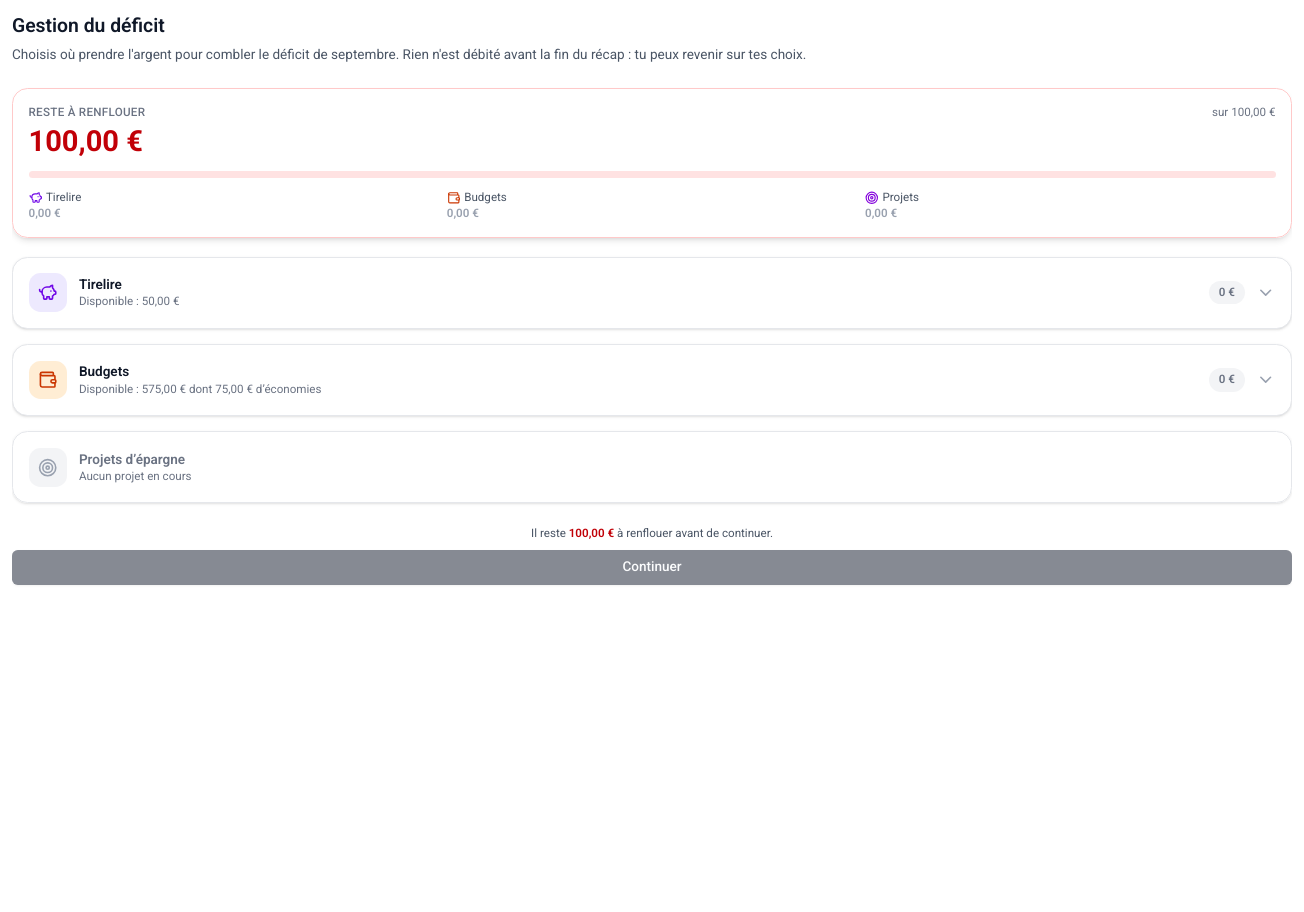
BilanNegativeStep — tirelire › bloque les autres sections tant qu’il y a des changements non validés
The width and height of the screenshot is (1304, 912).
Click the button "Tirelire Disponible : 50,00 € 0 €". click: (48, 293)
box: [13, 258, 1291, 328]
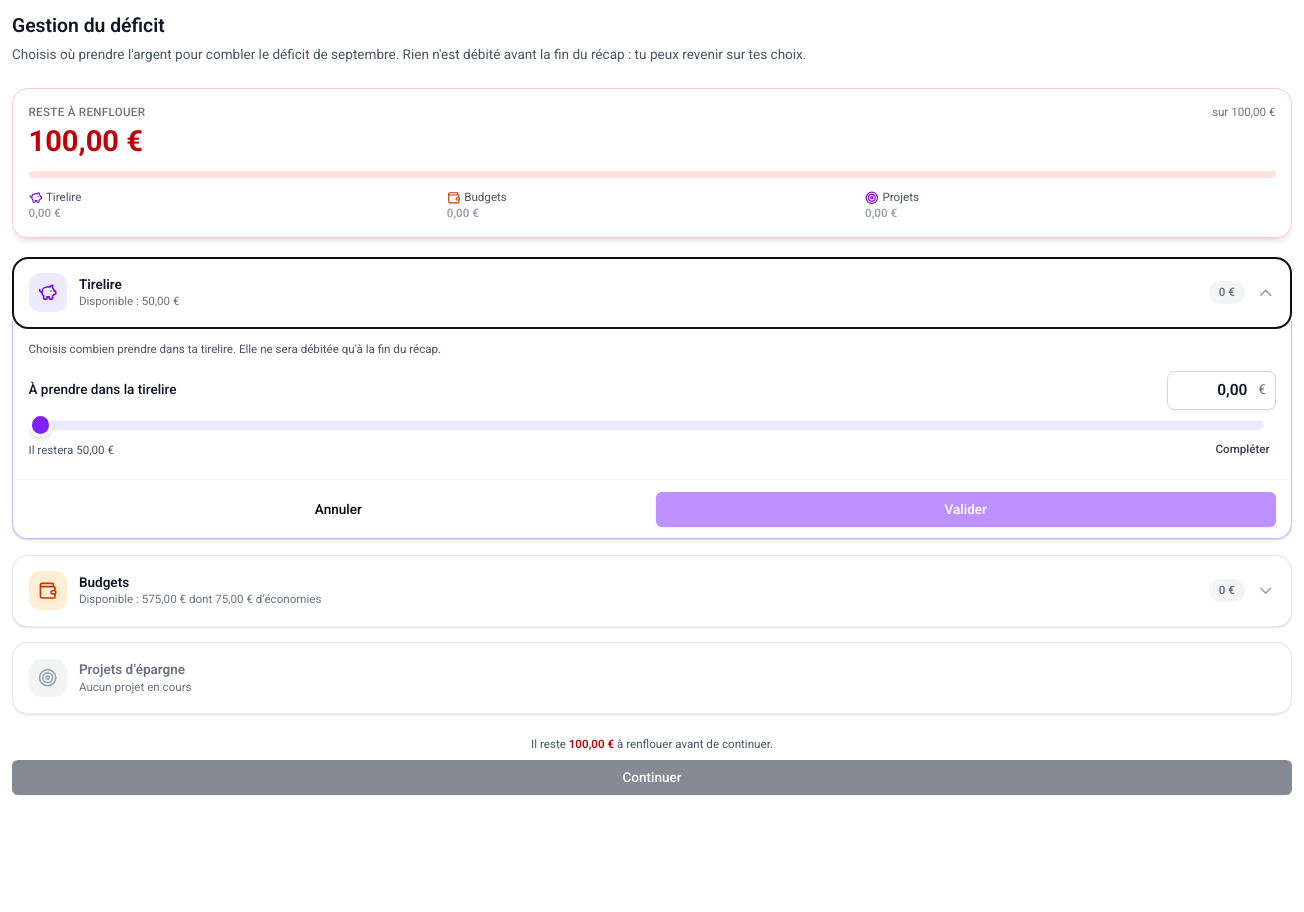
Check: the button "Budgets Disponible : 575,00 € dont 75,00 € d’économies 0 €" is enabled, box [13, 556, 1291, 626]
Set the slider named "Curseur Tirelire" to "10". click: (283, 425)
box: [28, 410, 1276, 440]
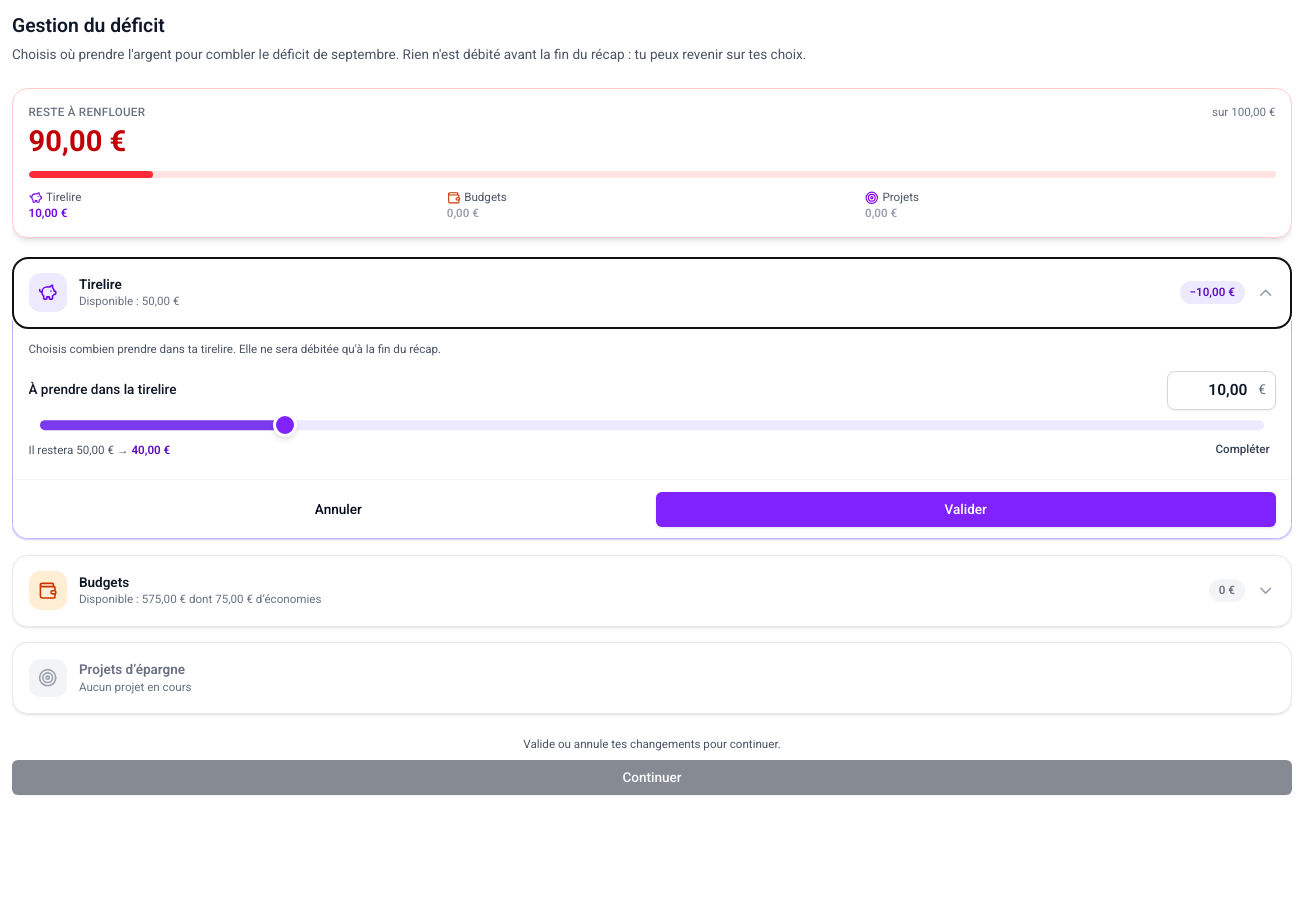
Check: the button "Budgets Disponible : 575,00 € dont 75,00 € d’économies 0 €" is disabled, box [13, 556, 1291, 626]
Check: the text "Valide ou annule tes changements pour continuer." is shown, box [523, 737, 781, 751]
